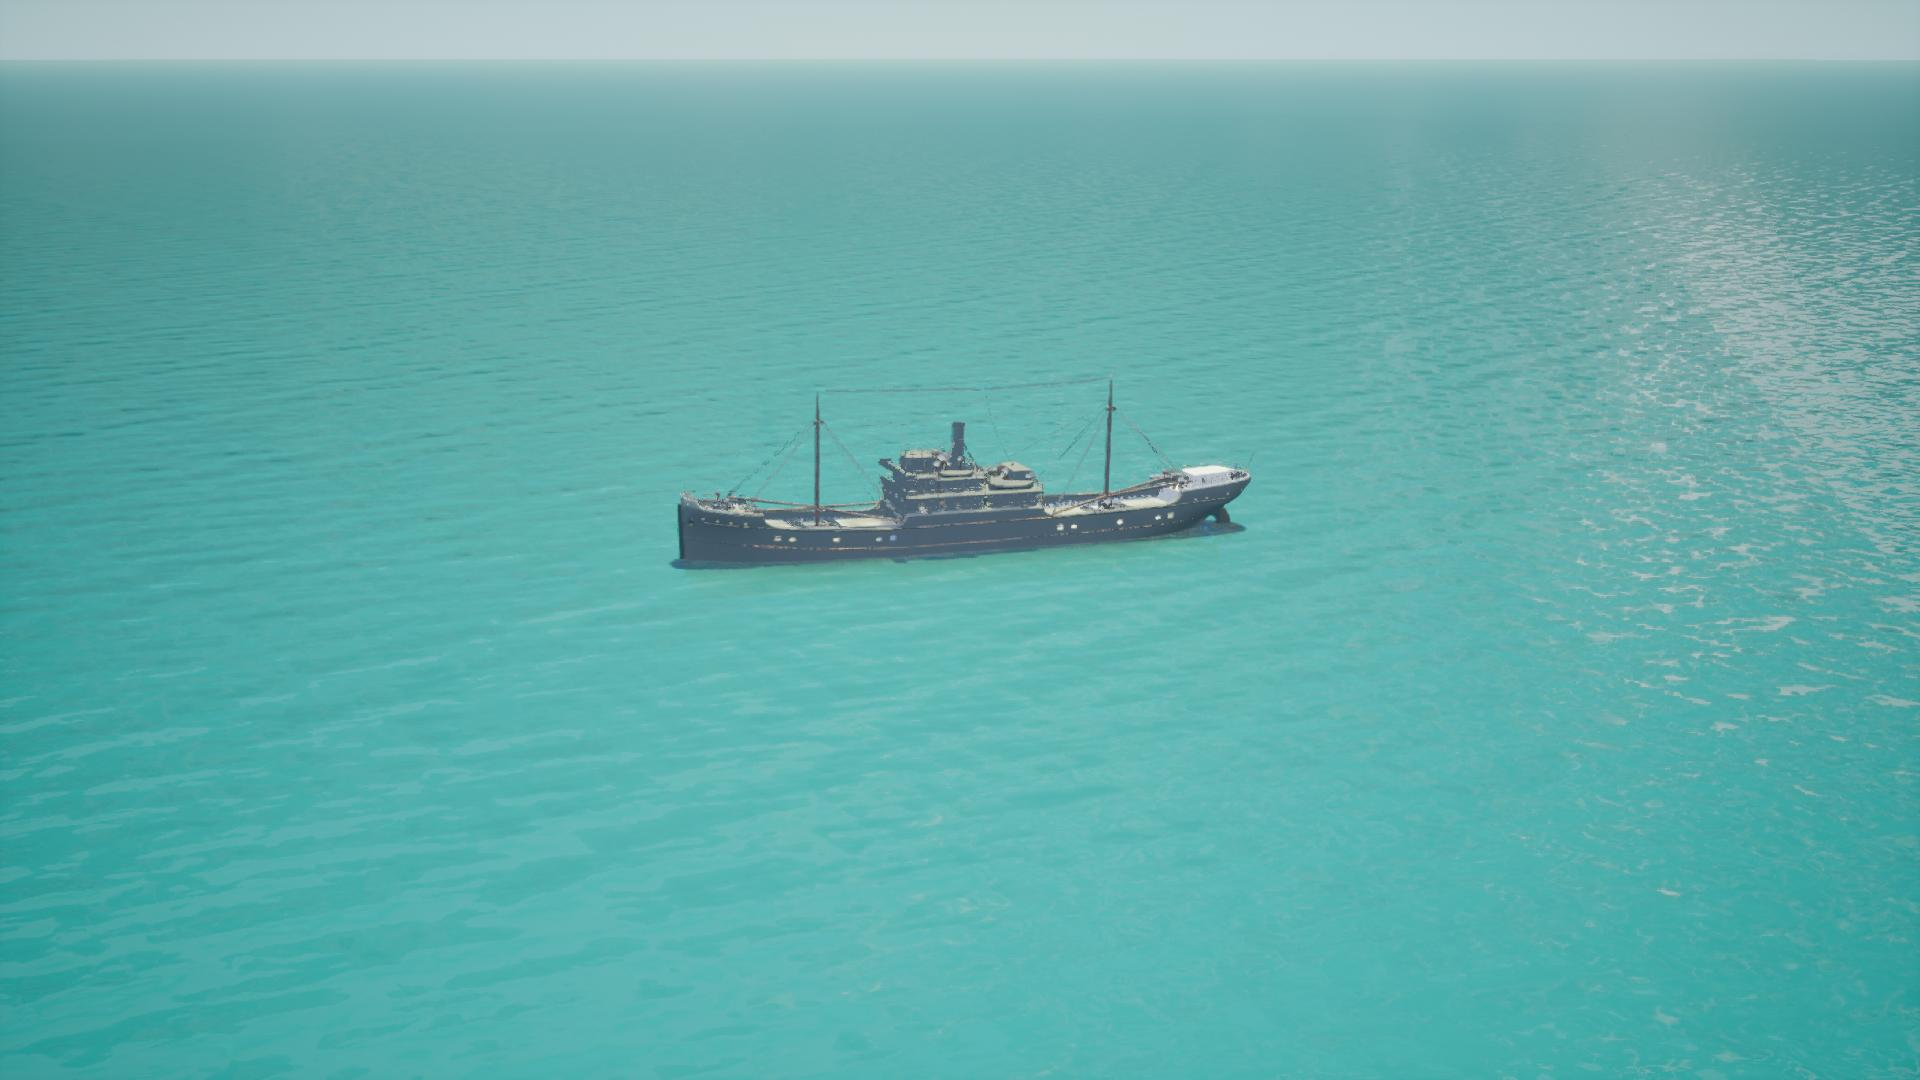Fishing Boat: (678, 384, 1250, 571)
